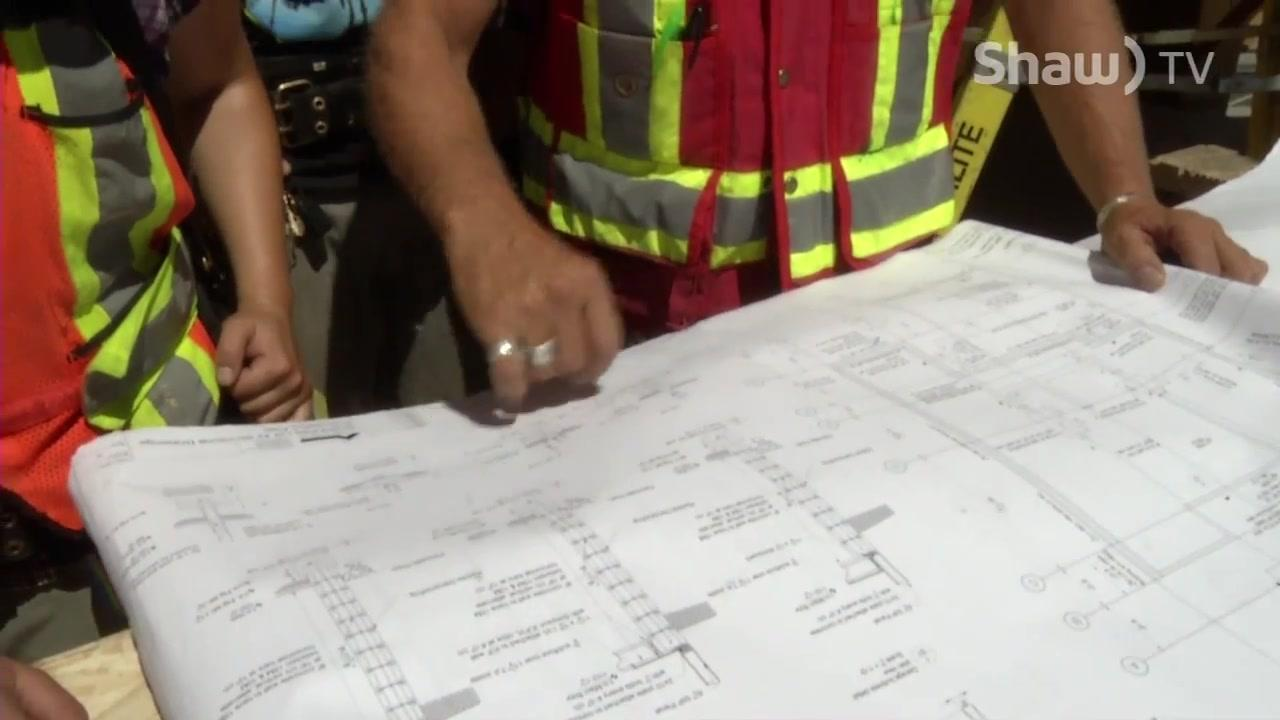Glass: (0, 18, 275, 544), (529, 0, 985, 272)
